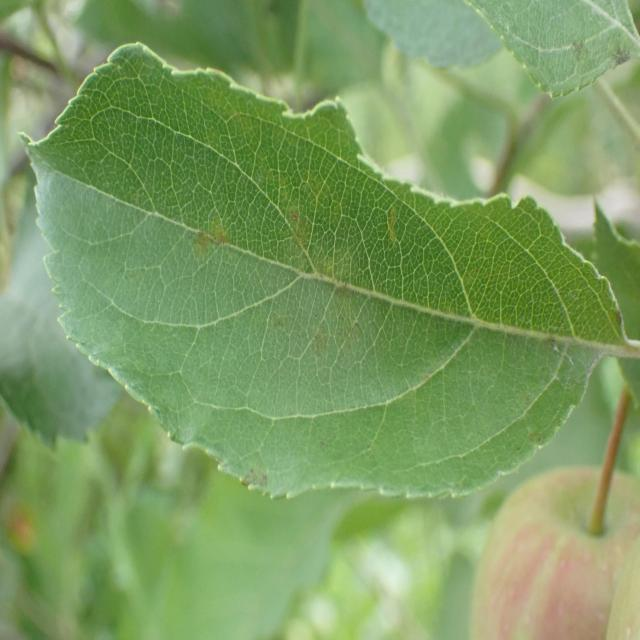scab: (124, 154, 636, 509), (545, 3, 640, 126)
